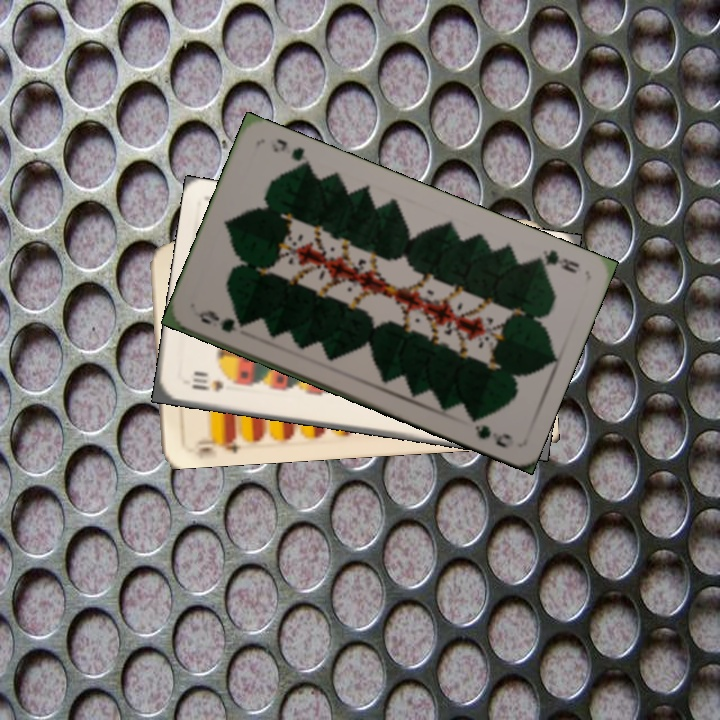E10: (184, 430, 243, 459)
G9: (527, 245, 582, 276), (194, 306, 250, 336)
S10: (188, 373, 226, 394)
